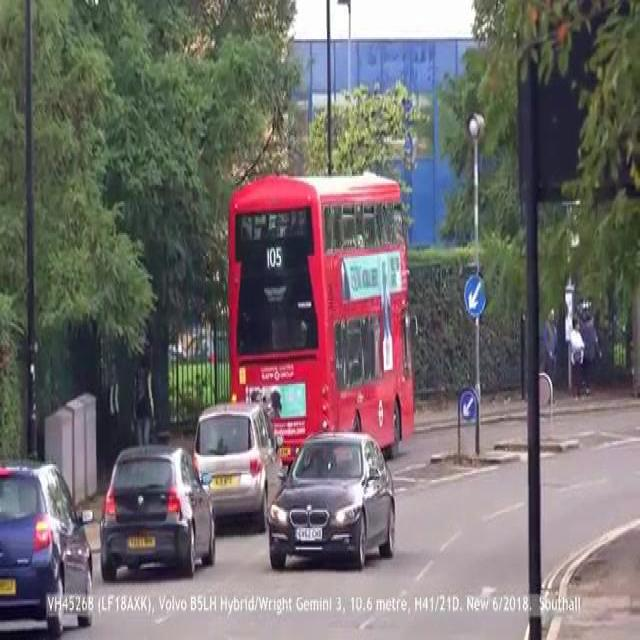motorcycle: (220, 176, 413, 469)
